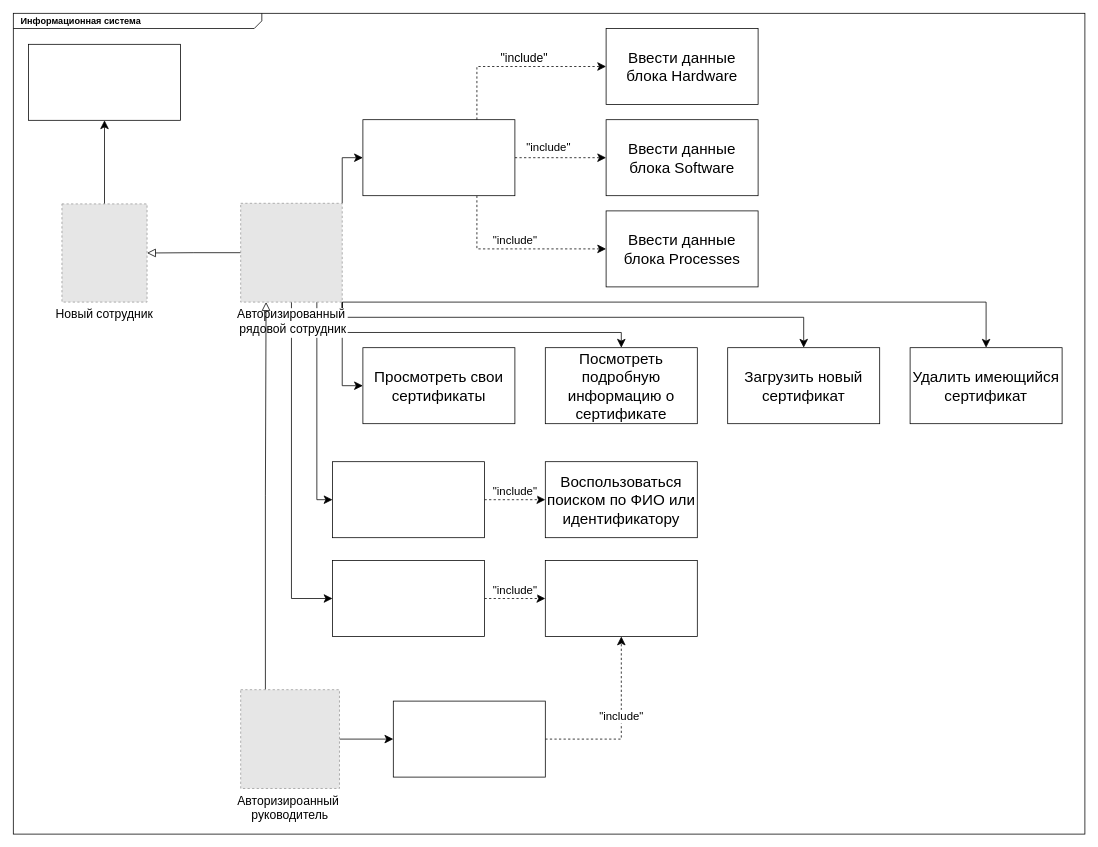
This 1098x847 diagram has some shape labels left out. Grey dashed boxes stand in for pictures. Here are the shapes that lost their labels. From the top down, the box of each, then its label:
(28, 44, 180, 120): Регистрация в системе
(362, 119, 515, 196): Ввести данные о навыках
(332, 461, 484, 538): Посмтреть сводку о сотруднике(любом, включая себя)
(332, 560, 484, 636): Найти сотрудников, соотвествующих критериям
(545, 560, 697, 636): Применить фильтры
(393, 700, 545, 777): Найти прямых подчиненных, соотвествующих критериям
